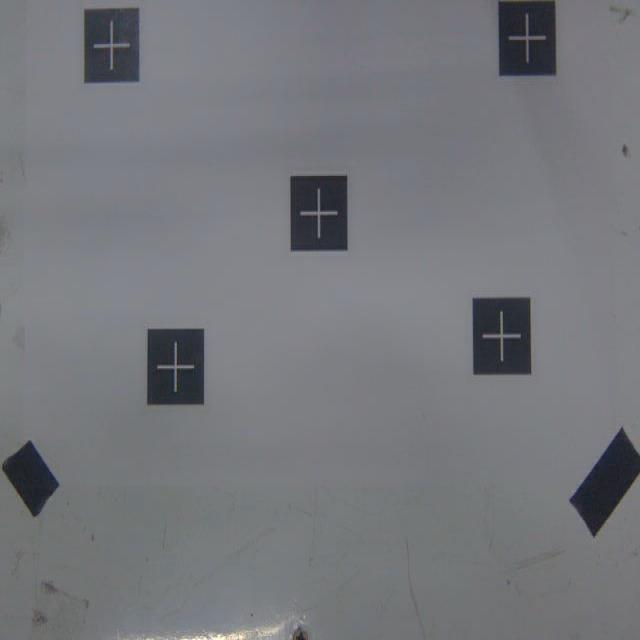dot: (473, 296, 532, 374), (147, 328, 204, 406), (84, 8, 141, 84), (290, 175, 346, 252), (501, 1, 558, 74)
